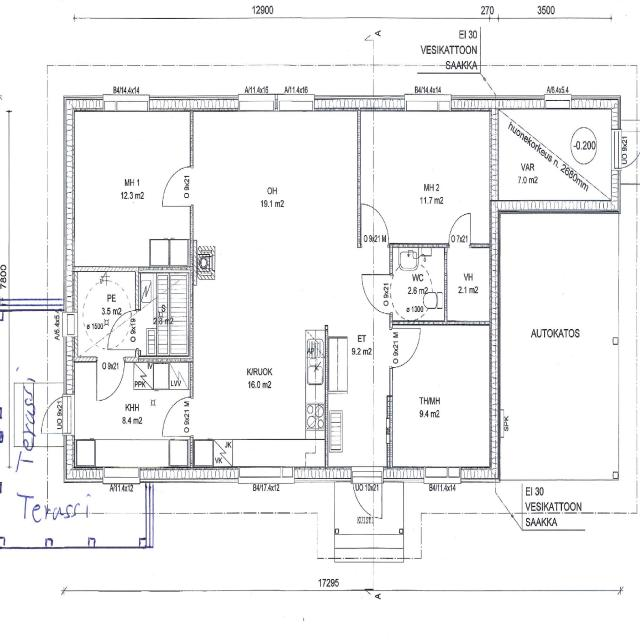door: (352, 467, 382, 524), (36, 396, 74, 433), (96, 356, 125, 402), (107, 310, 140, 350), (390, 328, 421, 368), (362, 274, 393, 314), (163, 167, 193, 206), (163, 397, 193, 436), (362, 204, 388, 247), (611, 130, 640, 168), (449, 213, 470, 247)
